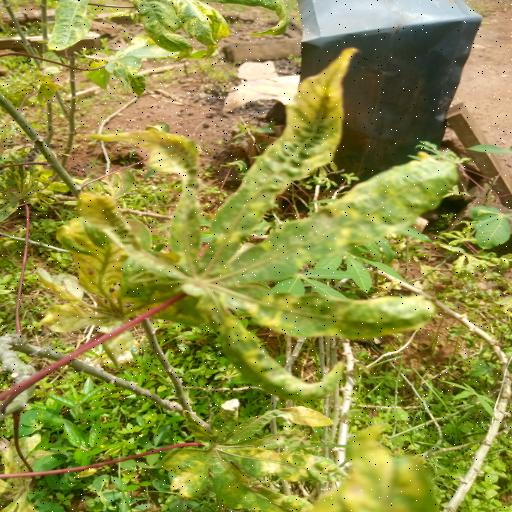Cassava_Mosaic: (72, 46, 468, 400), (166, 404, 350, 512), (126, 0, 294, 57)
